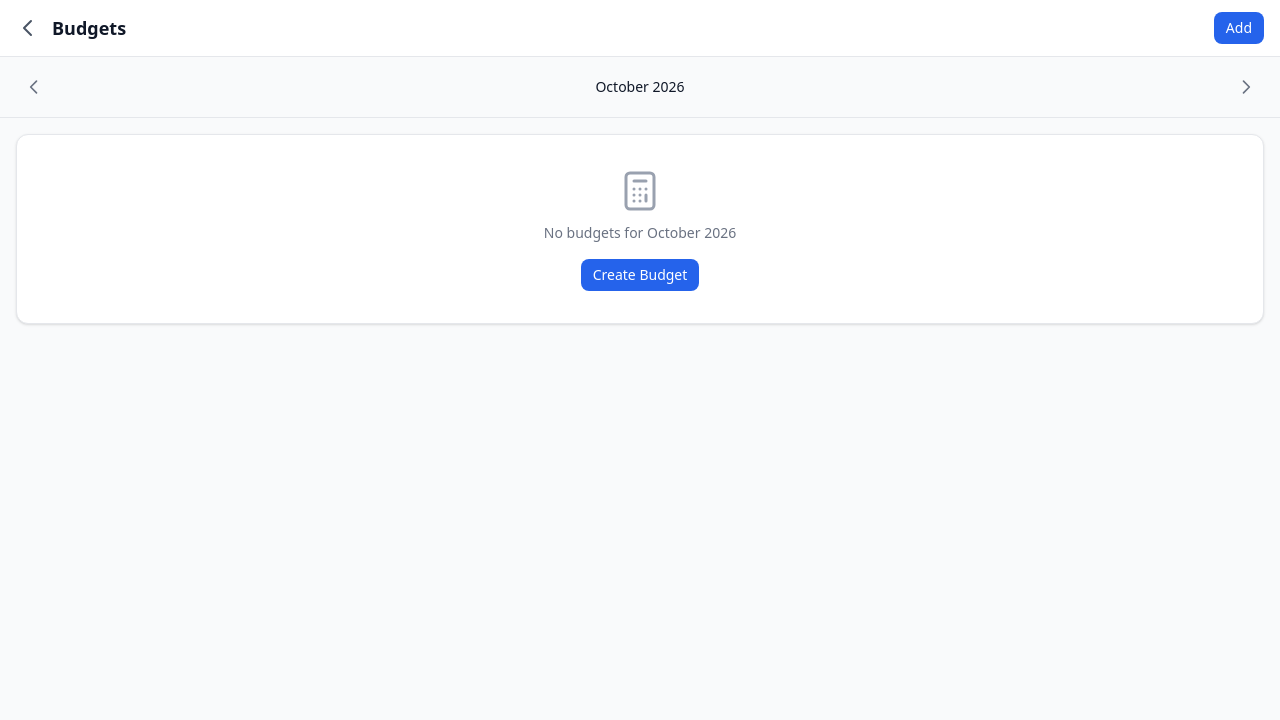
it: BudgetsPage › Add Budget modal › opens modal when Add button clicked
This screenshot has width=1280, height=720.
What coordinates should you click on to do the following:
click the button "Add"
I would click on:
 (1239, 28)
Its box is [1214,12,1264,44].
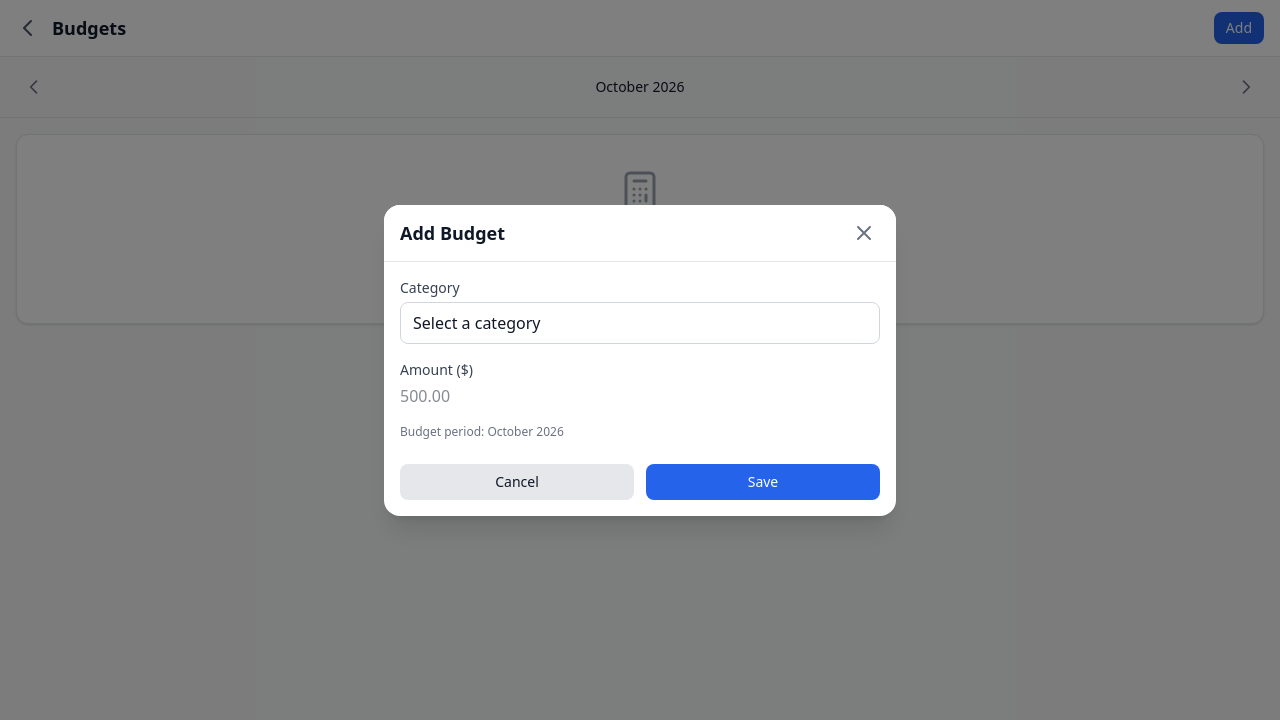
Expected: the dialog is shown, [384,204,896,516]
Expected: the heading "Add Budget" is shown, [400,218,505,246]
